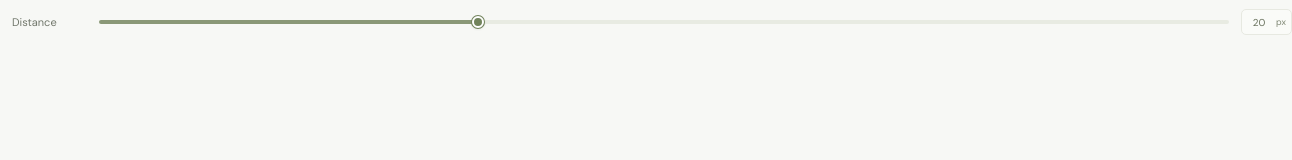
Scenario: RangeControl › commits numeric edits on blur
Replace the text in the number field with "32". click: (1259, 22)
box: [1242, 10, 1276, 34]
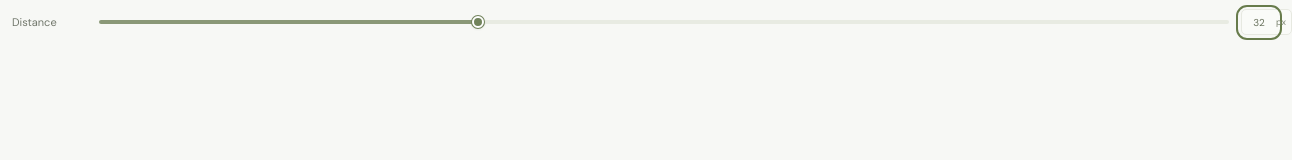
Press Tab
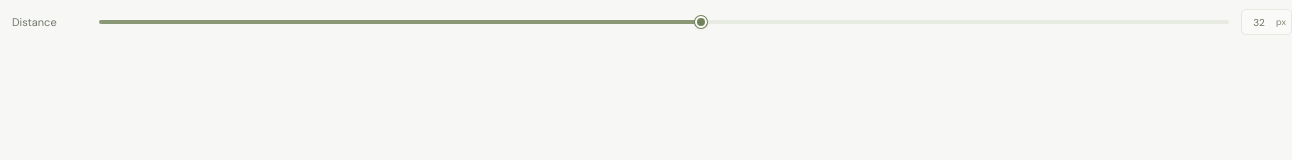
Expected: the slider holds "32", [99, 20, 1229, 24]
